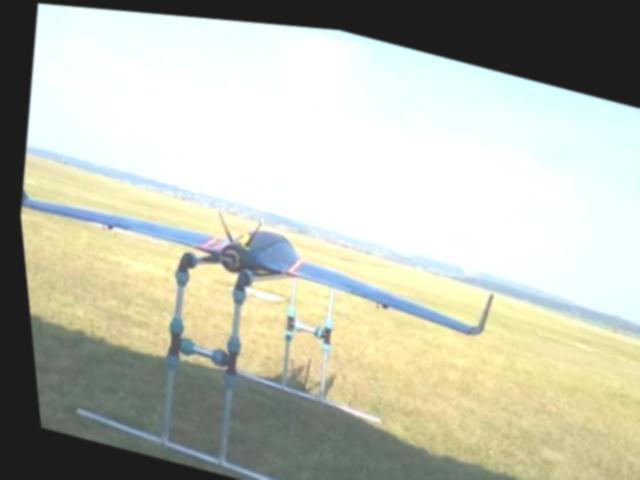iha: (12, 163, 493, 331)
